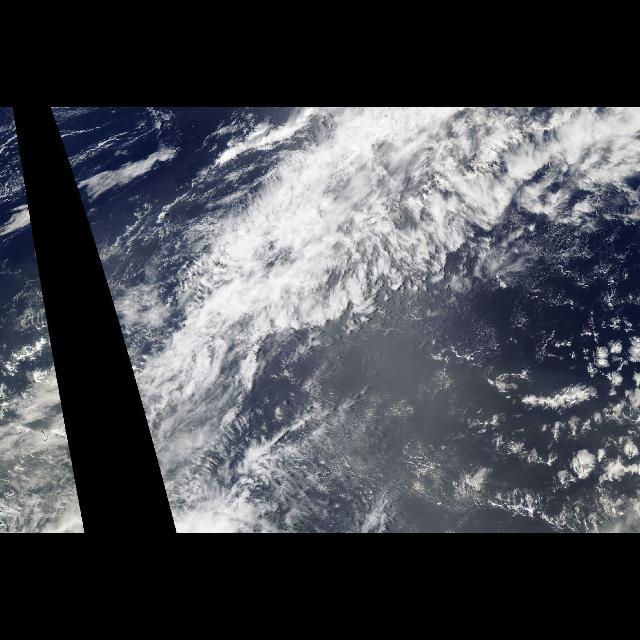Fish: (166, 138, 640, 350)
Flower: (455, 346, 639, 532)
Sugar: (250, 371, 442, 534)
